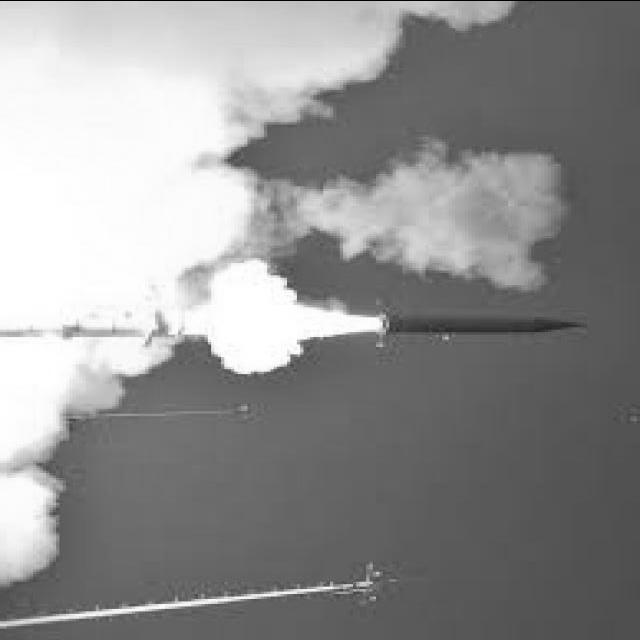Missile: (381, 303, 588, 339)
